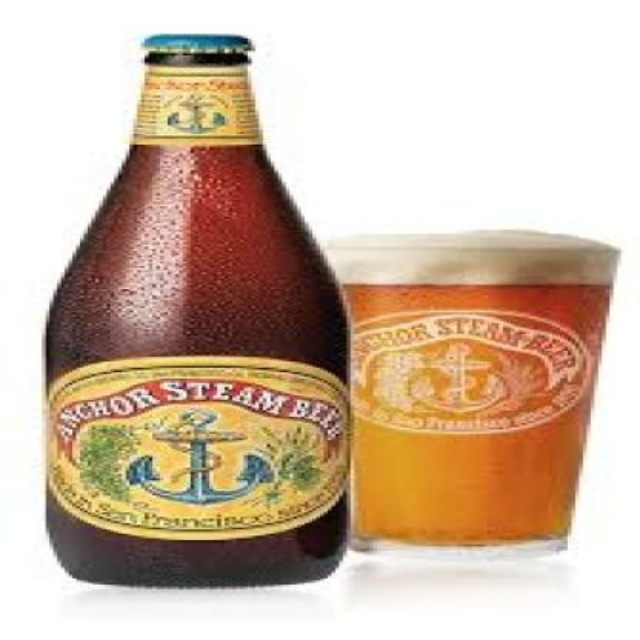trash: (46, 35, 346, 585), (328, 231, 615, 543)
